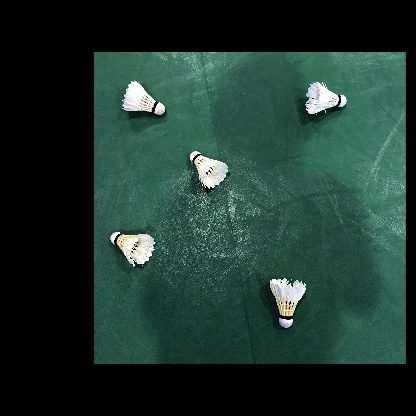ball_single: (270, 278, 306, 328), (110, 232, 156, 267), (122, 80, 165, 115), (190, 151, 228, 189), (305, 81, 347, 114)
